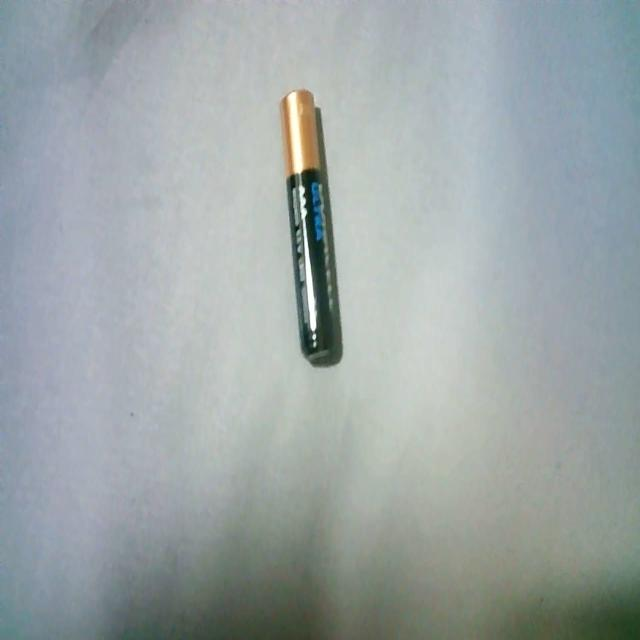AAA: (275, 76, 347, 375)
